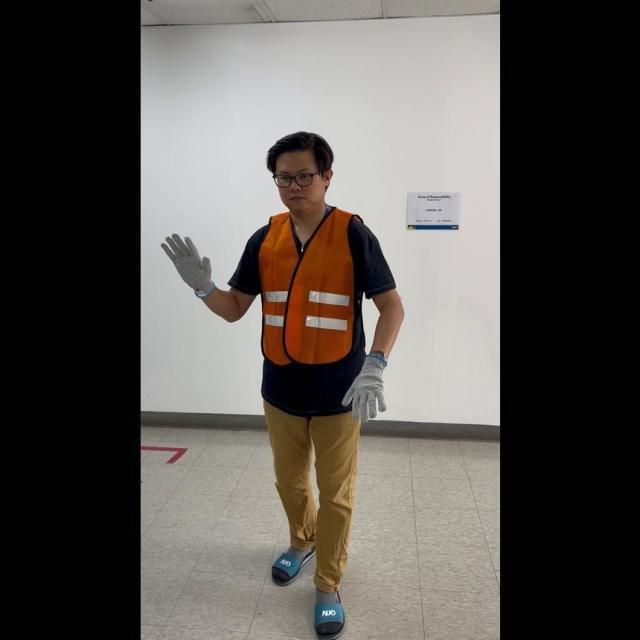gloved_hand: (159, 228, 215, 298), (339, 349, 391, 417)
